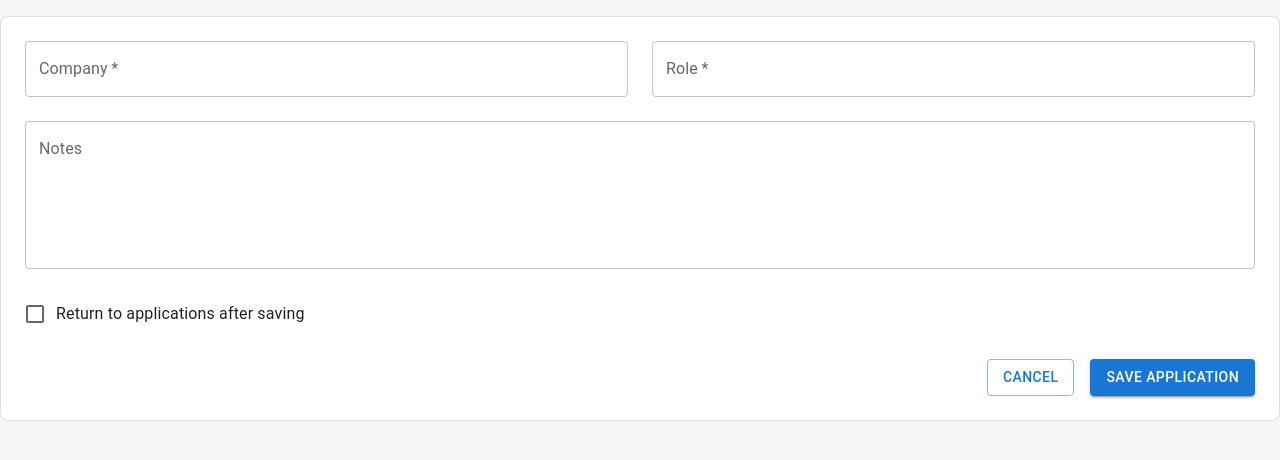
Test: ApplicationForm › shows required validation errors
This screenshot has width=1280, height=460.
Click the button "Save Application". click: (1173, 377)
box: [1090,359,1255,396]
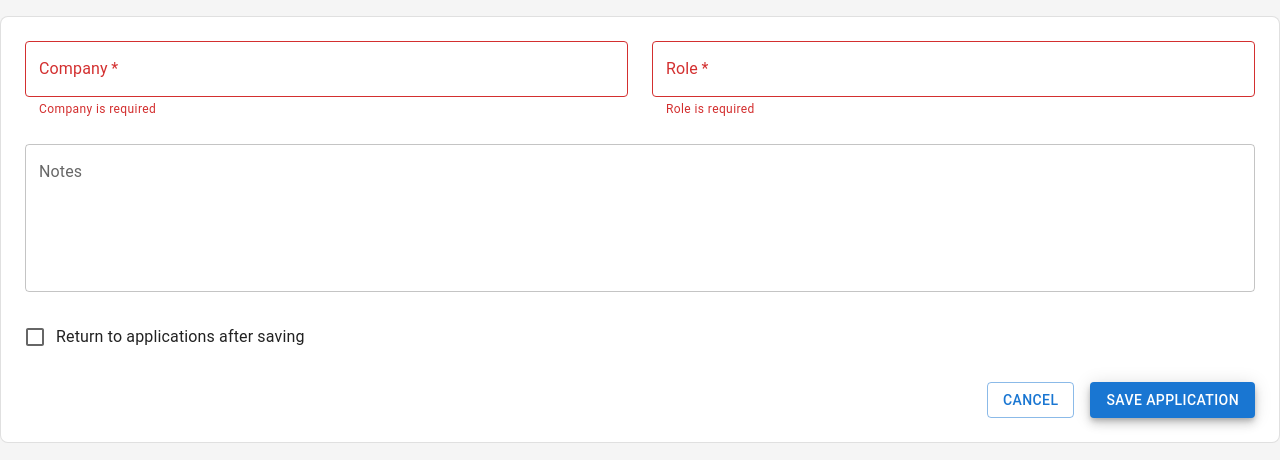
Expected: the text "Company is required" is shown, [39,102,156,116]
Expected: the text "Role is required" is shown, [666,102,755,116]
